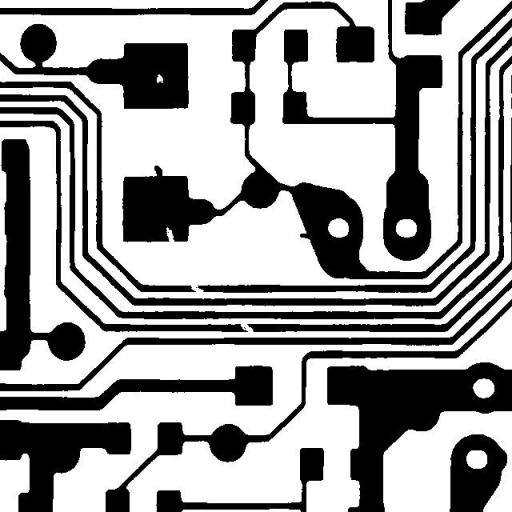mousebite: (158, 219, 182, 253)
open: (232, 314, 261, 344), (181, 274, 211, 301)
pin-hole: (149, 66, 170, 90)
spur: (146, 158, 170, 184), (292, 226, 319, 246)
